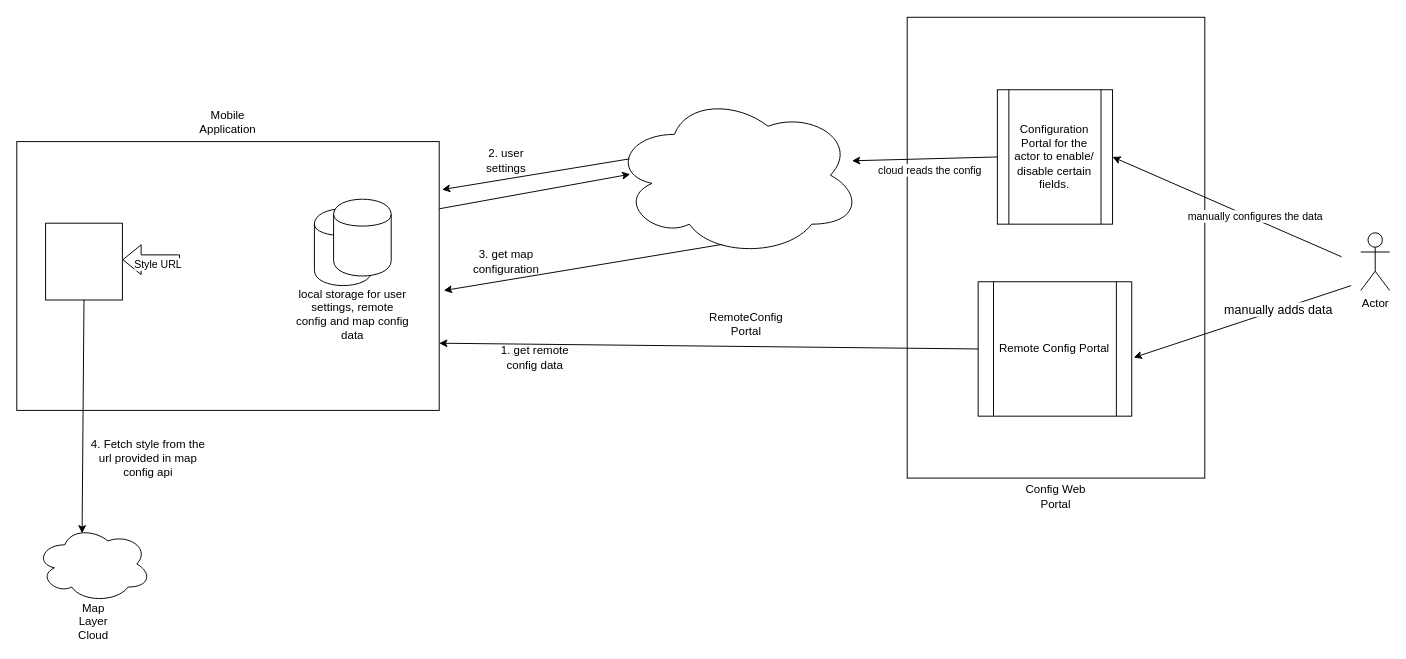
This 1406x659 diagram has some shape labels left out. The centre of each missing label's shape, as x and y in pixels:
"Cloud" goes at (736,175).
"Map SDK" goes at (83,261).
